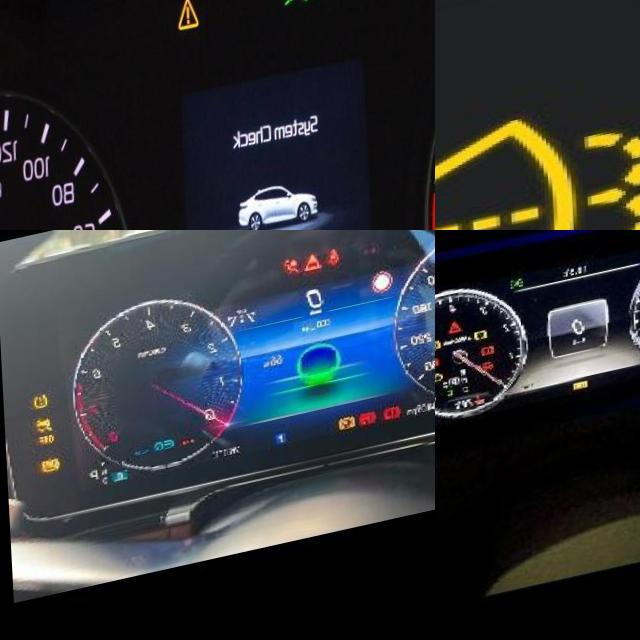Engine cooling system: (469, 405, 483, 416)
Seat Belt: (324, 262, 338, 282)
Washer Fluid: (435, 109, 640, 230)
